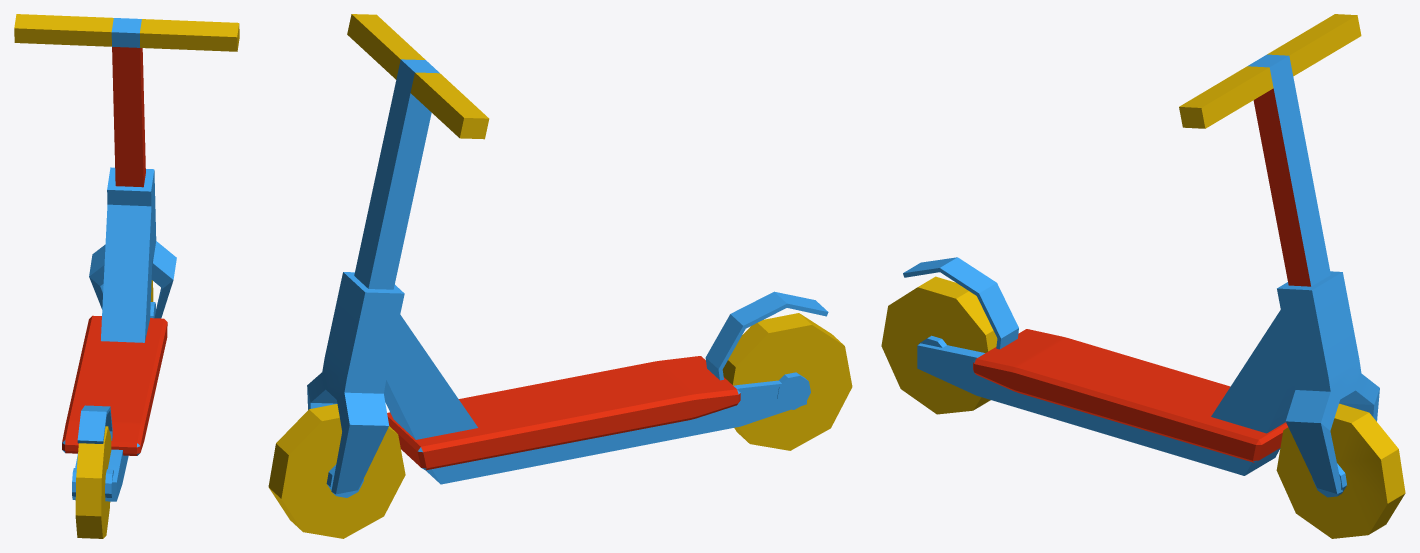
The model's file is Scooty.fbx.
3 renders of one model, left to right at view 1: azimuth 30°, elevation 25°; view 2: azimuth 150°, elevation 25°; view 3: azimuth 270°, elevation 25°, orthographic. The views are drawn at different scales.
Visible parts, largest first — view 1: scooty1_pCube31.002; view 2: scooty1_pCube31.002; view 3: scooty1_pCube31.002.
Part boxes in pixels (x1,y1,x2,y2): scooty1_pCube31.002: [14, 14, 239, 538]; scooty1_pCube31.002: [268, 14, 852, 538]; scooty1_pCube31.002: [881, 14, 1405, 538].
Bounding box in the file's own units: 104 × 128 × 135.
